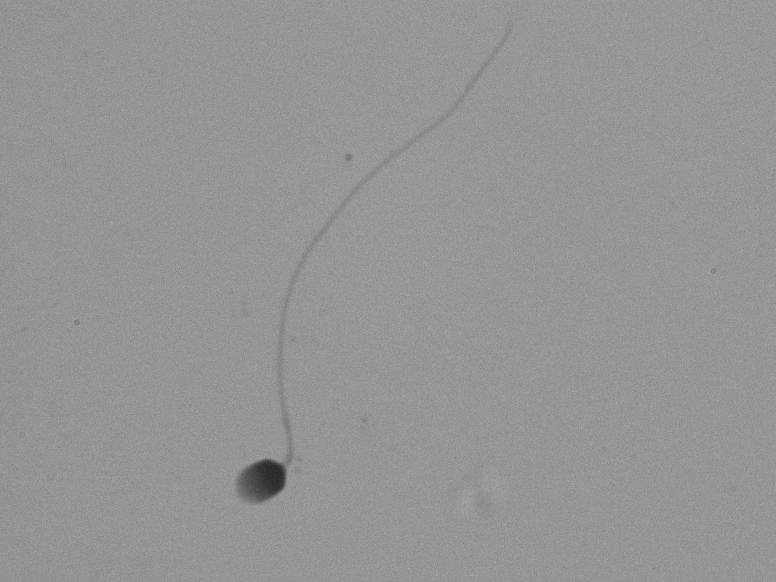Normal: (156, 34, 519, 523)
